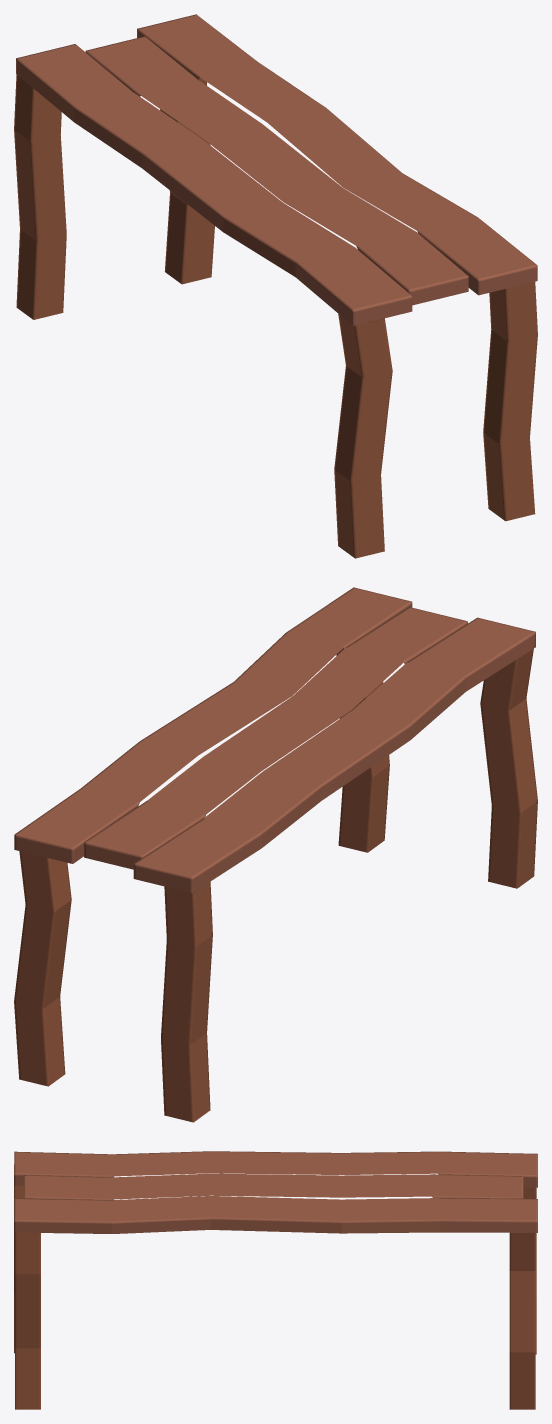
File: Wooden Desk.fbx
3 views of the same model, one above another, from view 1: azimuth 30°, elevation 25°; view 2: azimuth 150°, elevation 25°; view 3: azimuth 270°, elevation 25° (orthographic). The views are drawn at different scales.
Visible parts, largest first — view 1: Wooden Desk Top Obj, Wooden Desk Side Pole Obj; view 2: Wooden Desk Top Obj, Wooden Desk Side Pole Obj; view 3: Wooden Desk Top Obj, Wooden Desk Side Pole Obj.
Boxes of the visible parts, x1,y1,x2,y2 form: Wooden Desk Top Obj: (16,14,537,325); Wooden Desk Side Pole Obj: (14,74,537,558); Wooden Desk Top Obj: (14,587,535,893); Wooden Desk Side Pole Obj: (14,648,537,1122); Wooden Desk Top Obj: (14,1151,537,1233); Wooden Desk Side Pole Obj: (14,1164,536,1409).
Bounding box in the file's own units: 129 × 160 × 400.
